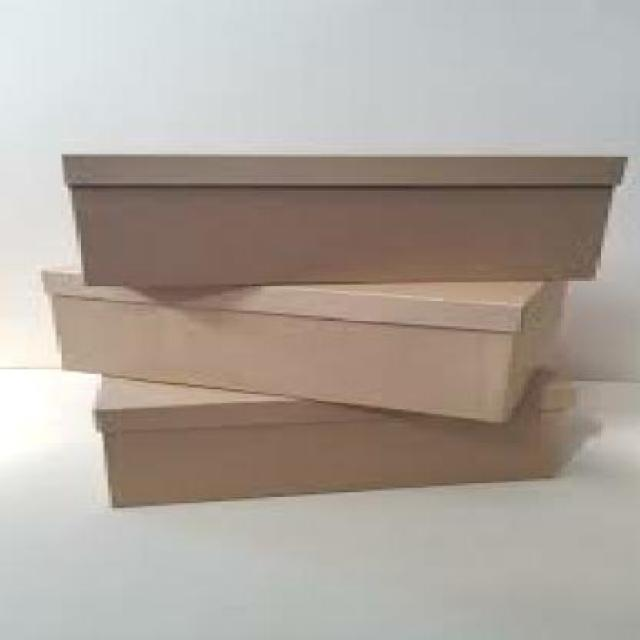box: (36, 262, 584, 426), (56, 138, 629, 282), (80, 360, 568, 508)
